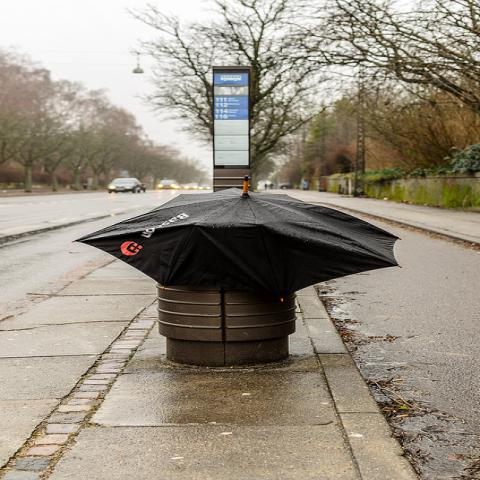car: (107, 177, 142, 194), (158, 180, 177, 190), (184, 183, 201, 190), (201, 184, 211, 190)
